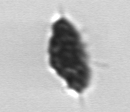plankton: (41, 8, 97, 100)
